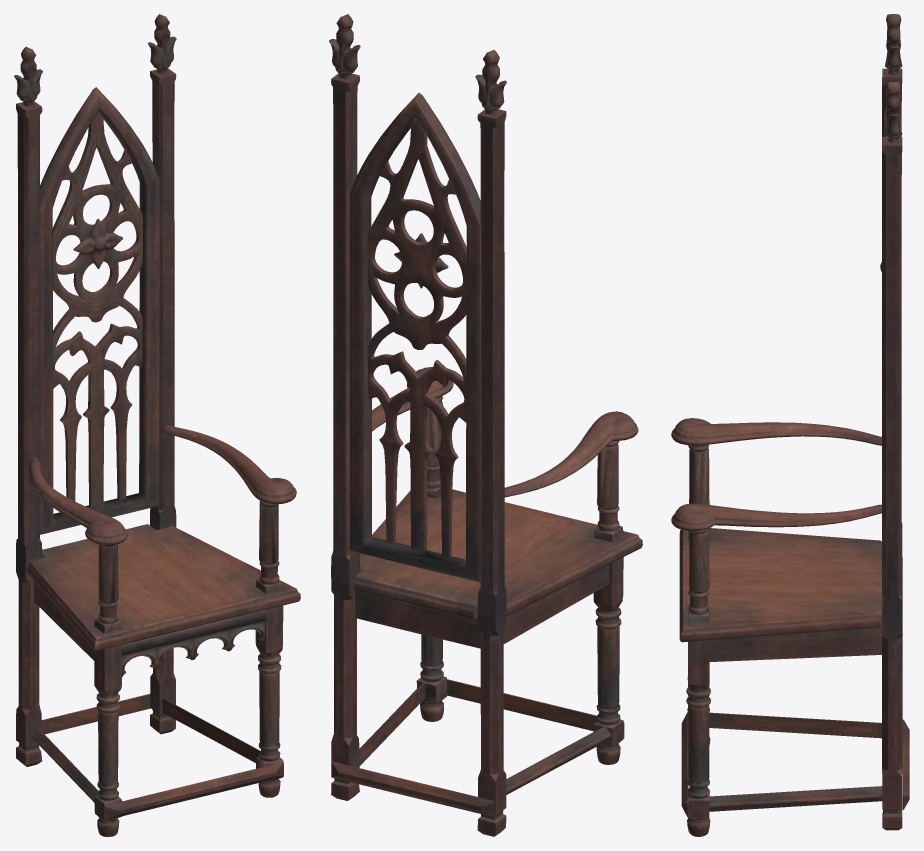
File: WoodenChair_01.glb
3 views of the same model, side by side, from view 1: azimuth 30°, elevation 25°; view 2: azimuth 150°, elevation 25°; view 3: azimuth 270°, elevation 25° (orthographic). The views are drawn at different scales.
Parts seen in each view (by area): view 1: WoodenChair_01; view 2: WoodenChair_01; view 3: WoodenChair_01.
Part boxes in pixels (left/top/right/bottom): WoodenChair_01: left=14, top=14, right=300, bottom=836; WoodenChair_01: left=329, top=14, right=642, bottom=836; WoodenChair_01: left=671, top=14, right=909, bottom=836.
Size of the model in its own units: 0.6881 by 2.27 by 0.6584.
1 material, 1 textured.
